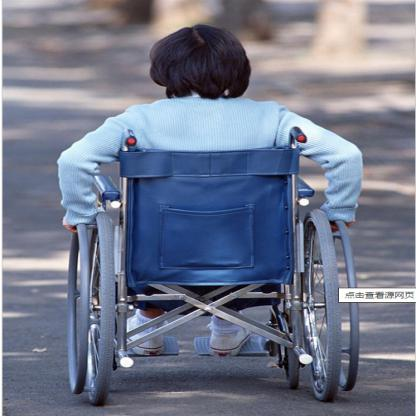wheelchair: (52, 24, 366, 404)
